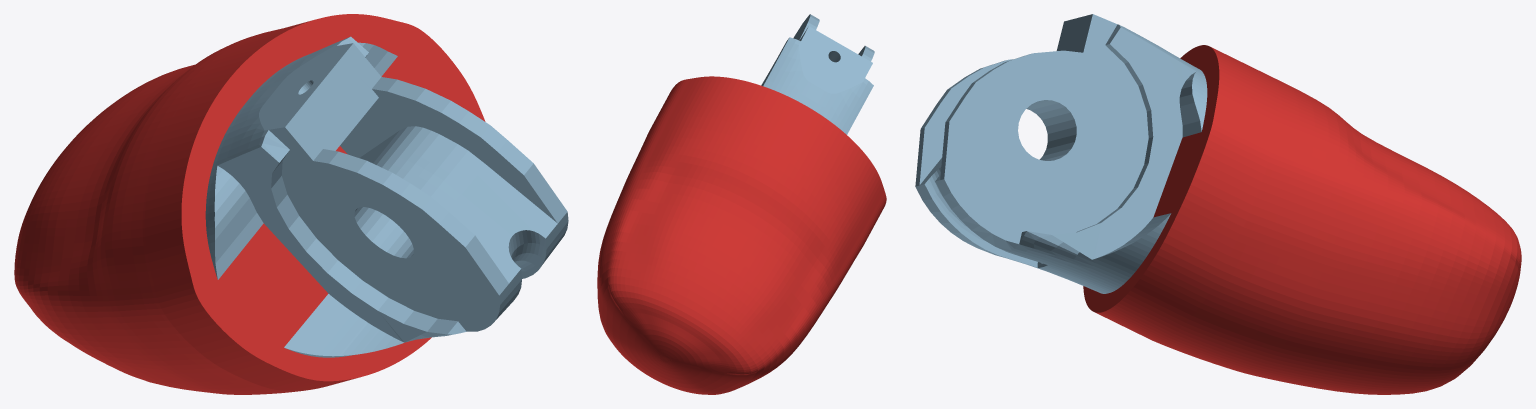
Rendered from i02_rightHand_indexTip_visual.obj.
The picture shows the model from 3 angles, left to right: view 1: azimuth 30°, elevation 25°; view 2: azimuth 150°, elevation 25°; view 3: azimuth 270°, elevation 25°; orthographic projection. The views are drawn at different scales.
Visible parts, largest first — view 1: i02_rightHand_indexTip_visual.001; view 2: i02_rightHand_indexTip_visual.001; view 3: i02_rightHand_indexTip_visual.001.
Part boxes in pixels (box(x1,y1,x2,y2)): i02_rightHand_indexTip_visual.001: box(14, 14, 568, 394); i02_rightHand_indexTip_visual.001: box(597, 14, 886, 394); i02_rightHand_indexTip_visual.001: box(915, 14, 1521, 394).
Size of the model in its own units: 0.1891 by 0.2409 by 0.3548.
